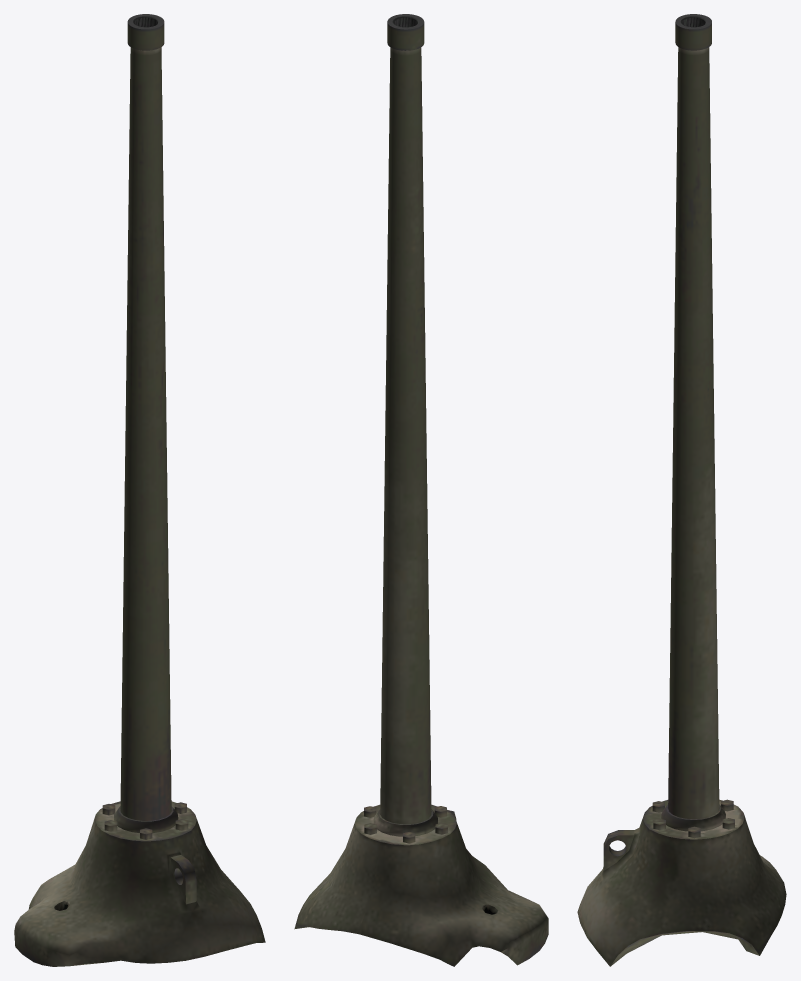
The model's file is Gun_01.glb.
The picture shows the model from 3 angles, left to right: view 1: azimuth 30°, elevation 25°; view 2: azimuth 150°, elevation 25°; view 3: azimuth 270°, elevation 25°; orthographic projection.
Visible parts, largest first — view 1: set_0_group_0; view 2: set_0_group_0; view 3: set_0_group_0.
Boxes of the visible parts, x1,y1,x2,y2 form: set_0_group_0: (14, 14, 265, 966); set_0_group_0: (294, 14, 548, 966); set_0_group_0: (577, 14, 786, 966).
Bounding box in the file's own units: 0.7907 × 3.42 × 0.7137.
1 material, 1 textured.
